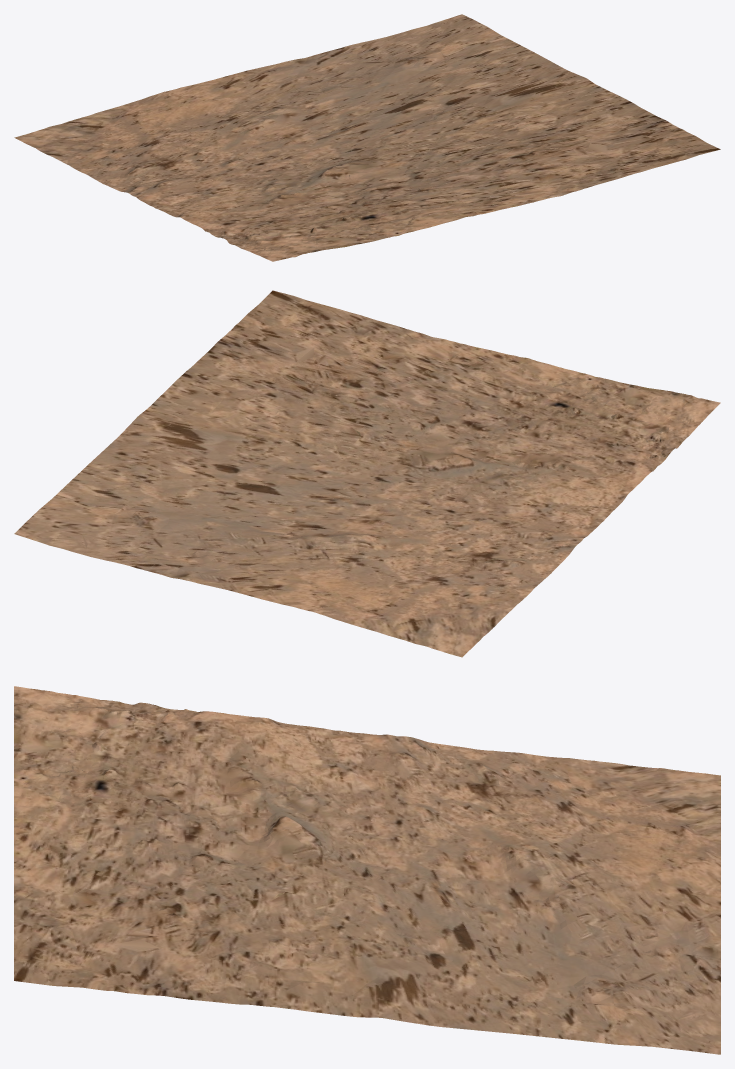
3 renders of one model, top to bottom at view 1: azimuth 30°, elevation 25°; view 2: azimuth 150°, elevation 25°; view 3: azimuth 270°, elevation 25°, orthographic. The views are drawn at different scales.
Bounding box in the file's own units: 16.71 × 2.43 × 16.71.
Materials: 2 (2 with a texture image).
